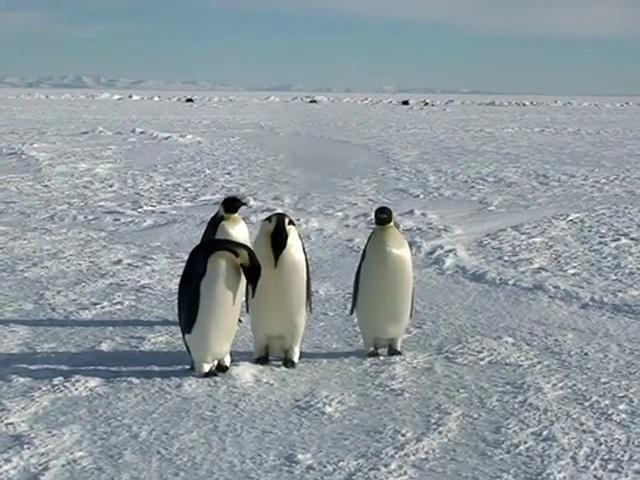animal: (351, 207, 414, 357)
